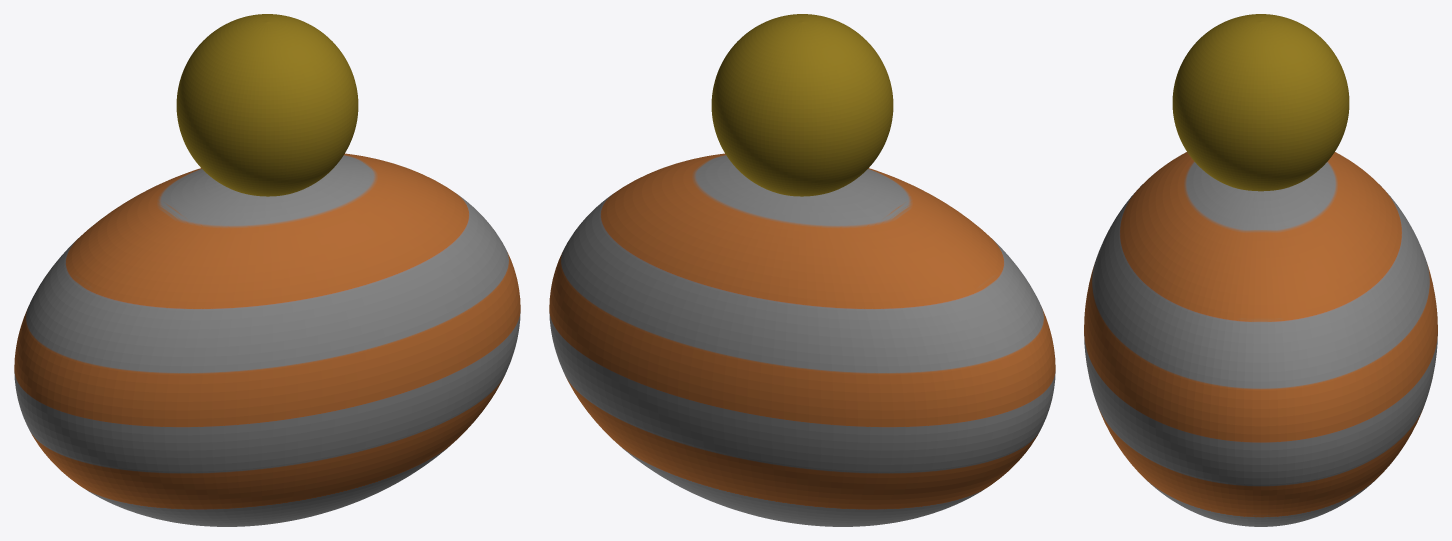
File: BOD1_BMC3_BCC0_BPT2_FRC0_HEA0_HMC4_HCC0_HPT0_ELT0_ERT0_ELL0_ERL0_AP0_AAL0_AAR0_BEK0.fbx
The picture shows the model from 3 angles, left to right: view 1: azimuth 30°, elevation 25°; view 2: azimuth 150°, elevation 25°; view 3: azimuth 270°, elevation 25°; orthographic projection. The views are drawn at different scales.
Parts seen in each view (by area): view 1: Body, Head; view 2: Body, Head; view 3: Body, Head.
Boxes of the visible parts, x1=… form: Body: x1=14, y1=153, x2=520, y2=526; Head: x1=176, y1=14, x2=358, y2=196; Body: x1=549, y1=153, x2=1055, y2=526; Head: x1=711, y1=14, x2=893, y2=196; Body: x1=1084, y1=152, x2=1437, y2=526; Head: x1=1172, y1=14, x2=1349, y2=191.
Size of the model in its own units: 148 by 145 by 98.72.
Materials: 2 (2 with a texture image).
